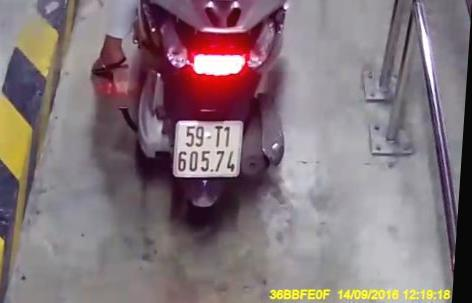License_Plate: (165, 114, 249, 182)
